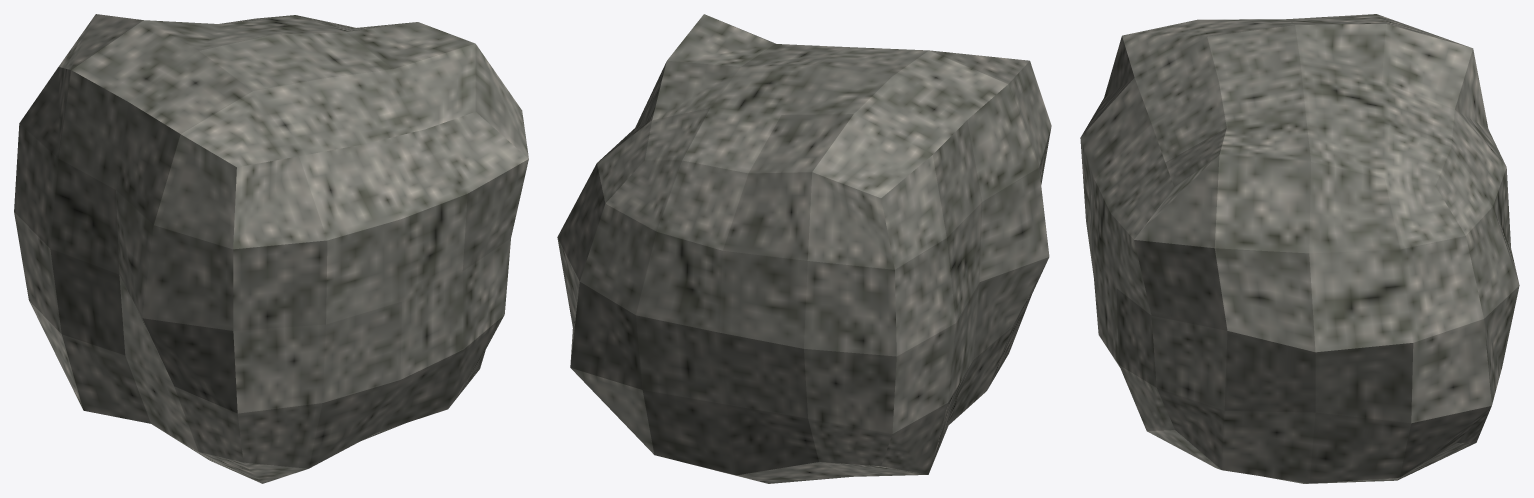
Rendered from SM_EC_Rock_07.fbx.
3 views of the same model, side by side, from view 1: azimuth 30°, elevation 25°; view 2: azimuth 150°, elevation 25°; view 3: azimuth 270°, elevation 25° (orthographic). The views are drawn at different scales.
Parts seen in each view (by area): view 1: SM_EC_Rock_07; view 2: SM_EC_Rock_07; view 3: SM_EC_Rock_07.
Boxes of the visible parts, x1=… form: SM_EC_Rock_07: x1=14, y1=14, x2=528, y2=483; SM_EC_Rock_07: x1=557, y1=14, x2=1051, y2=483; SM_EC_Rock_07: x1=1080, y1=14, x2=1519, y2=483.
Size of the model in its own units: 0.7684 by 0.7234 by 0.7211.
